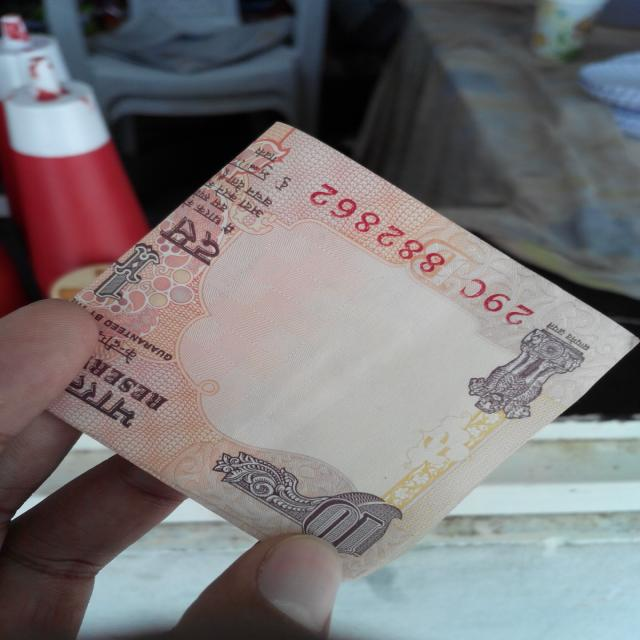10rs: (52, 114, 640, 578)
